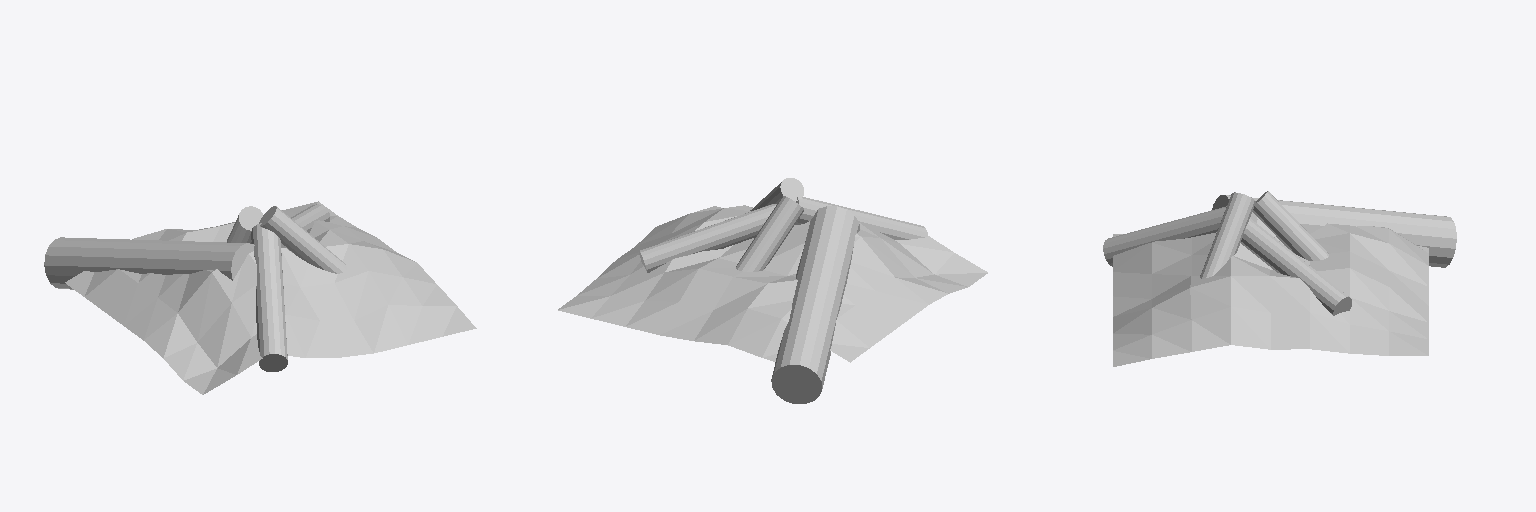
File: bonfire.obj
3 renders of one model, left to right at view 1: azimuth 30°, elevation 25°; view 2: azimuth 150°, elevation 25°; view 3: azimuth 270°, elevation 25°, orthographic.
Visible parts, largest first — view 1: Cylinder.001; view 2: Cylinder.001; view 3: Cylinder.001.
Boxes of the visible parts, <box> form: Cylinder.001: <box>44,201,476,394</box>; Cylinder.001: <box>558,178,987,403</box>; Cylinder.001: <box>1103,191,1456,366</box>.
Size of the model in its own units: 4.2 by 1.86 by 4.7.